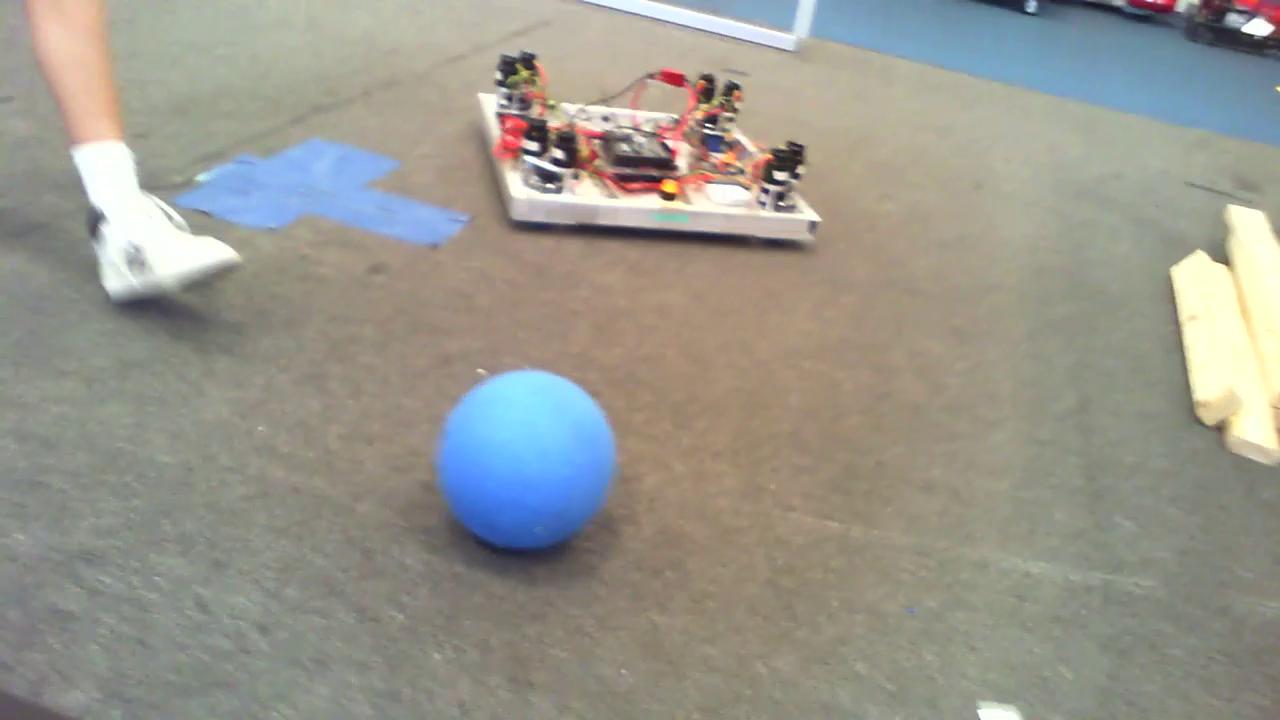blue_cargo: (442, 364, 617, 556)
